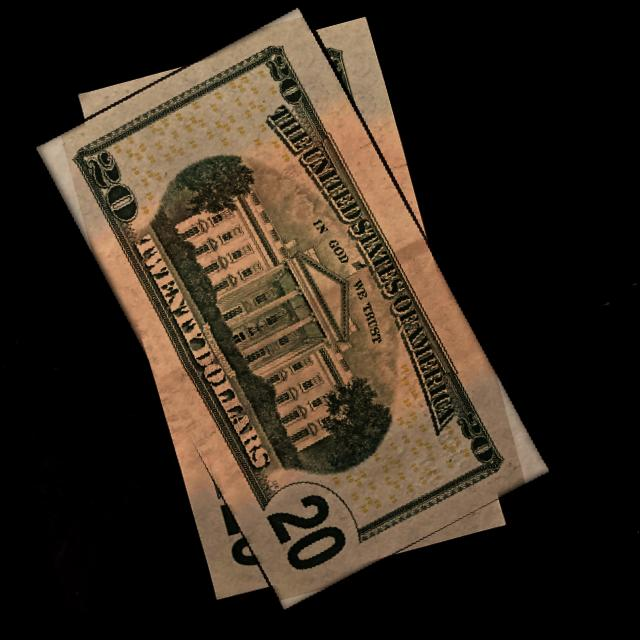twenty: (47, 0, 538, 623)
